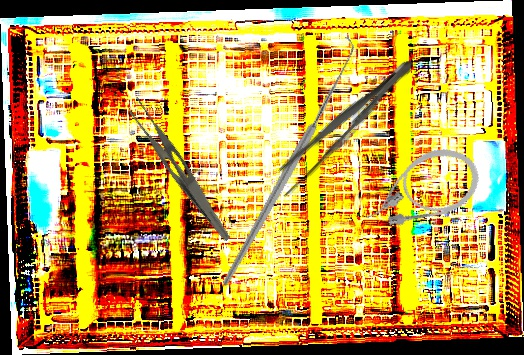Cannula: (353, 139, 488, 238)
Dressing Forceps: (267, 50, 422, 202), (118, 94, 246, 243)
Hook Surgical: (147, 36, 426, 286)
